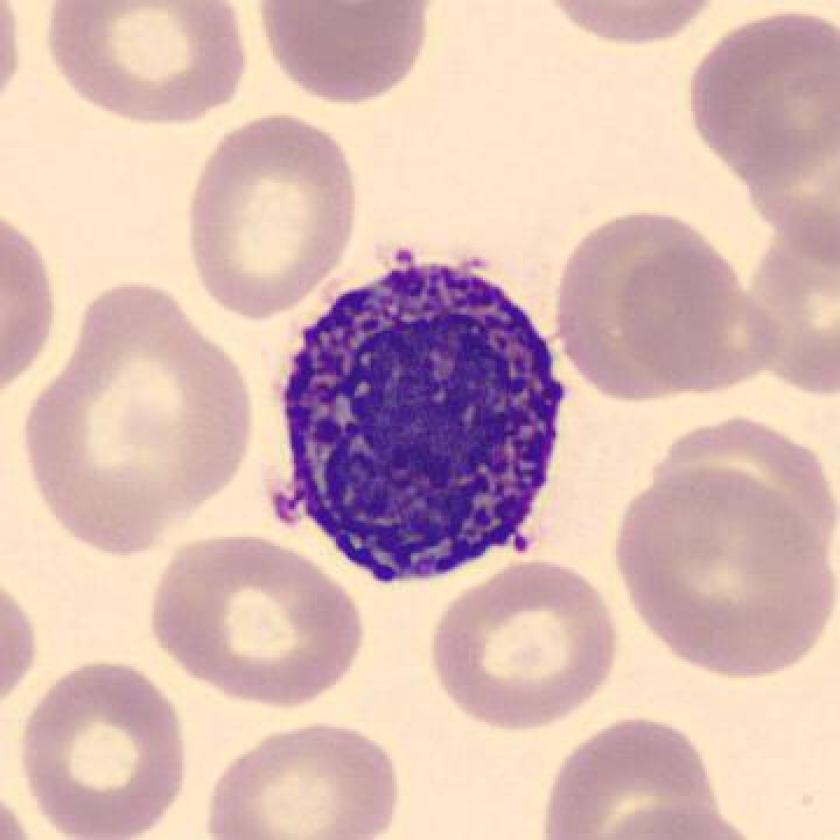basophil: (277, 253, 564, 589)
